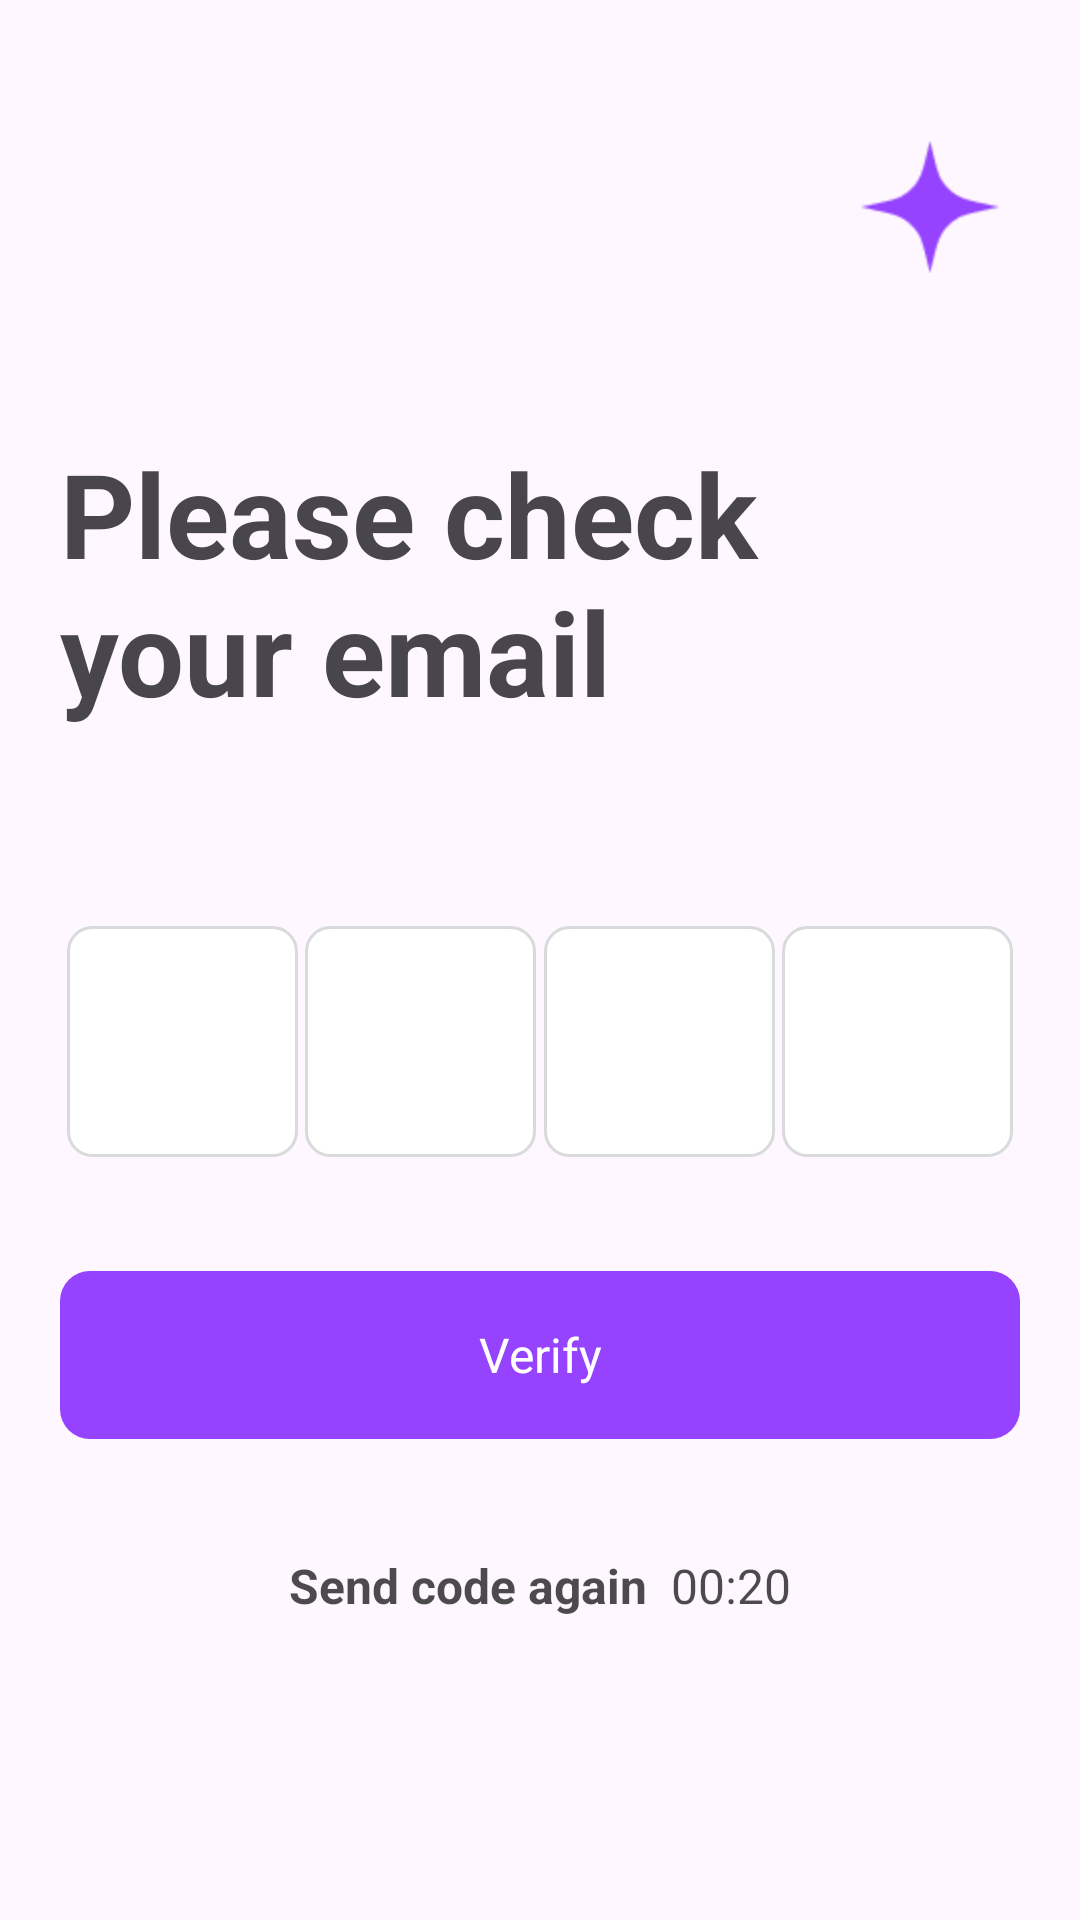

Screen size 1080 x 1920. Icon name, then its box in pixels as [x1=x1, y1=y1, x2=x2, y2=y2]:
login star: [x1=862, y1=141, x2=998, y2=273]
